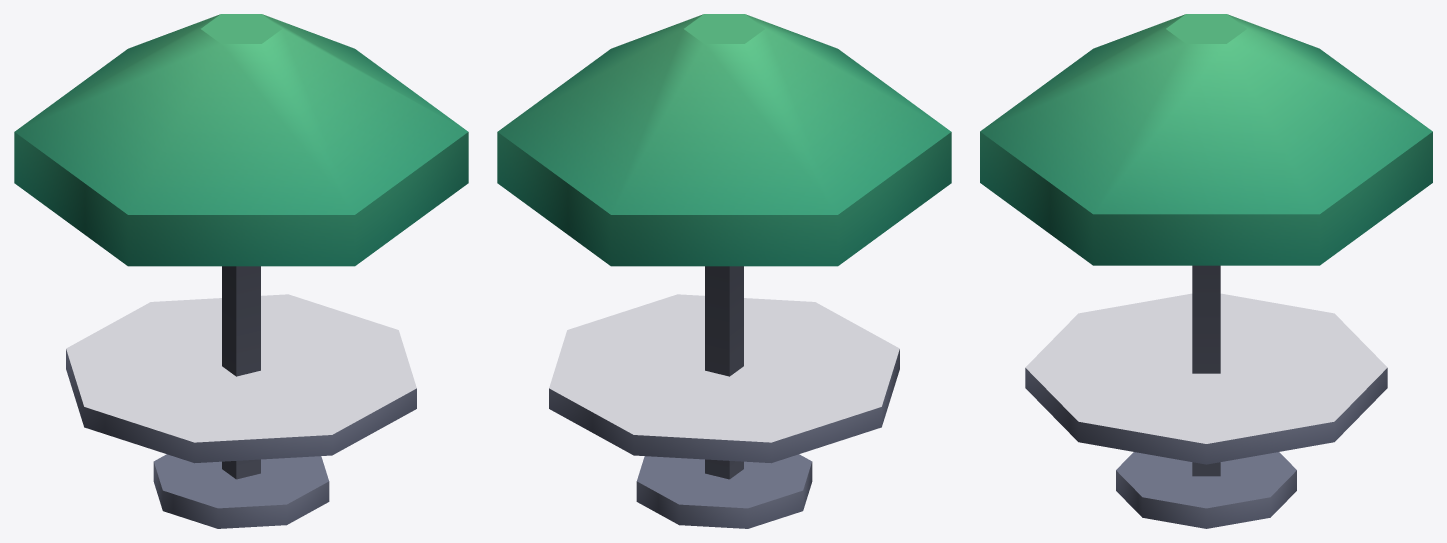
The model's file is detail_parasol_a.glb.
The picture shows the model from 3 angles, left to right: view 1: azimuth 30°, elevation 25°; view 2: azimuth 150°, elevation 25°; view 3: azimuth 270°, elevation 25°; orthographic projection.
Visible parts, largest first — view 1: detail-parasol-a; view 2: detail-parasol-a; view 3: detail-parasol-a.
Boxes of the visible parts, <box> form: detail-parasol-a: <box>14,14,468,528</box>; detail-parasol-a: <box>497,14,951,528</box>; detail-parasol-a: <box>980,14,1432,528</box>.
Size of the model in its own units: 0.3464 by 0.45 by 0.4.
1 material, 1 textured.
